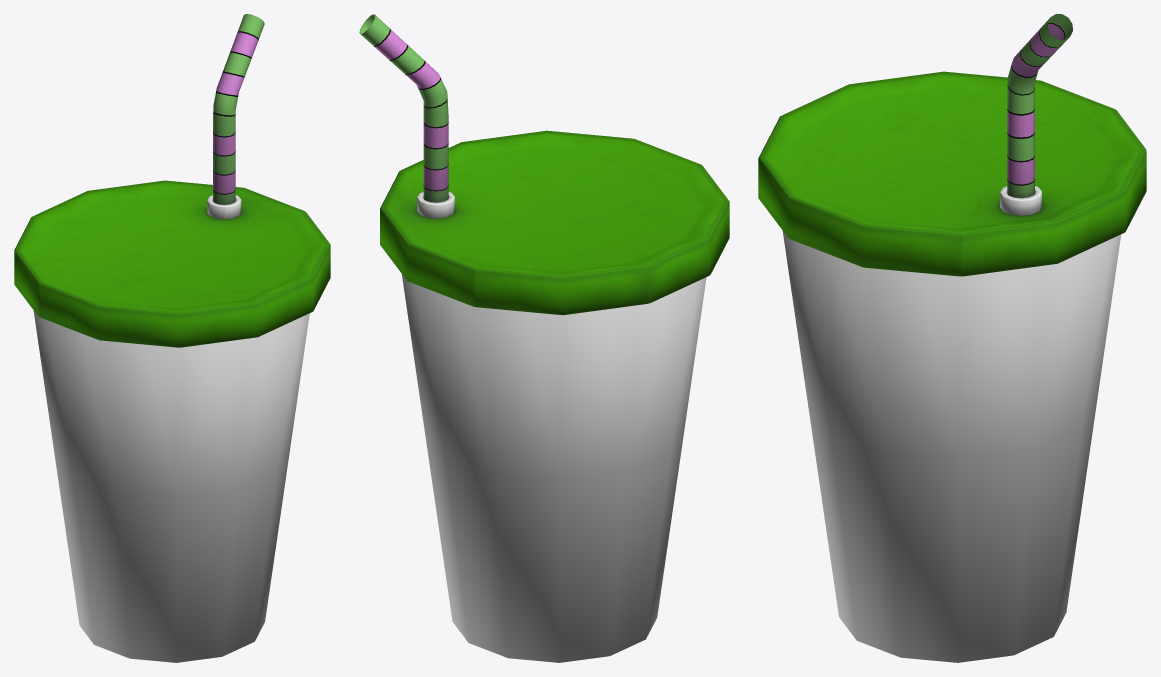
File: Mr_Smoothie.fbx
3 views of the same model, side by side, from view 1: azimuth 30°, elevation 25°; view 2: azimuth 150°, elevation 25°; view 3: azimuth 270°, elevation 25° (orthographic). The views are drawn at different scales.
Parts seen in each view (by area): view 1: Smoothie; view 2: Smoothie; view 3: Smoothie.
Part boxes in pixels (<box>): Smoothie: <box>14,14,330,662</box>; Smoothie: <box>359,14,729,662</box>; Smoothie: <box>758,14,1146,662</box>.
Bounding box in the file's own units: 15.93 × 30.57 × 15.95.
